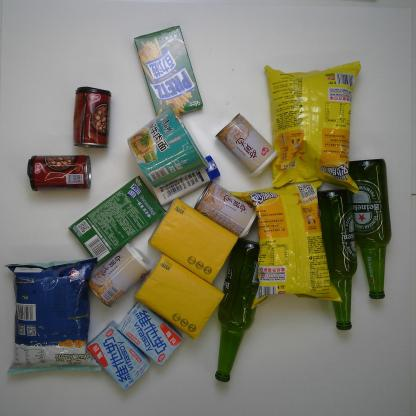Alcohol: (213, 235, 271, 384), (343, 155, 393, 301), (311, 186, 359, 333)
Canned Food: (86, 241, 154, 310), (213, 111, 279, 179), (193, 178, 259, 241), (71, 85, 113, 151), (25, 152, 93, 192)
Dessert: (67, 174, 168, 266), (132, 24, 206, 124)
Instant Noodles: (125, 101, 212, 189)
Milk: (82, 318, 154, 393), (114, 298, 186, 368)
Personal Hygiene: (150, 154, 222, 207)
Puffed Food: (225, 176, 347, 312), (258, 57, 364, 198), (3, 255, 105, 378)
Tissue: (145, 196, 242, 286), (130, 252, 227, 341)
